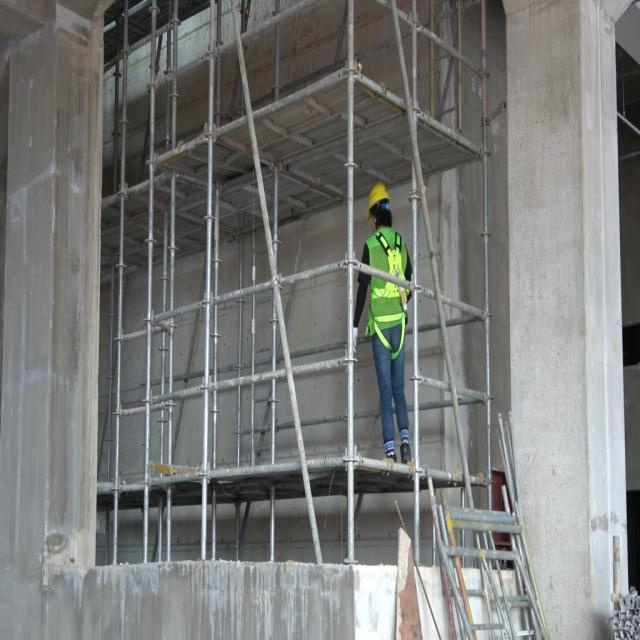Arnes_seguridad: (368, 229, 408, 362)
